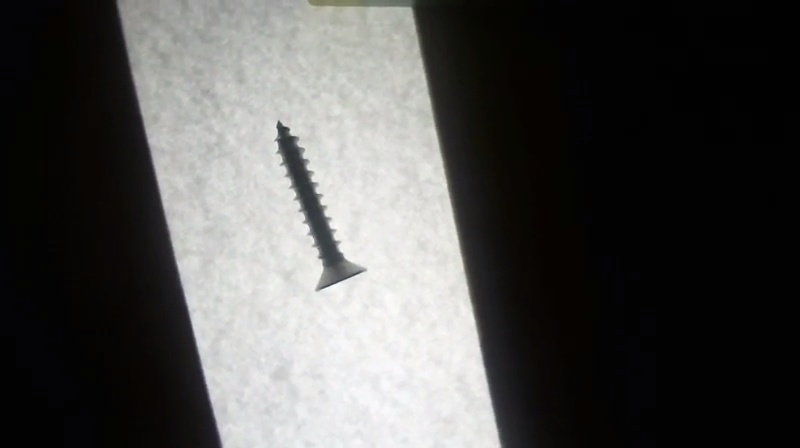S001: (273, 116, 369, 295)
